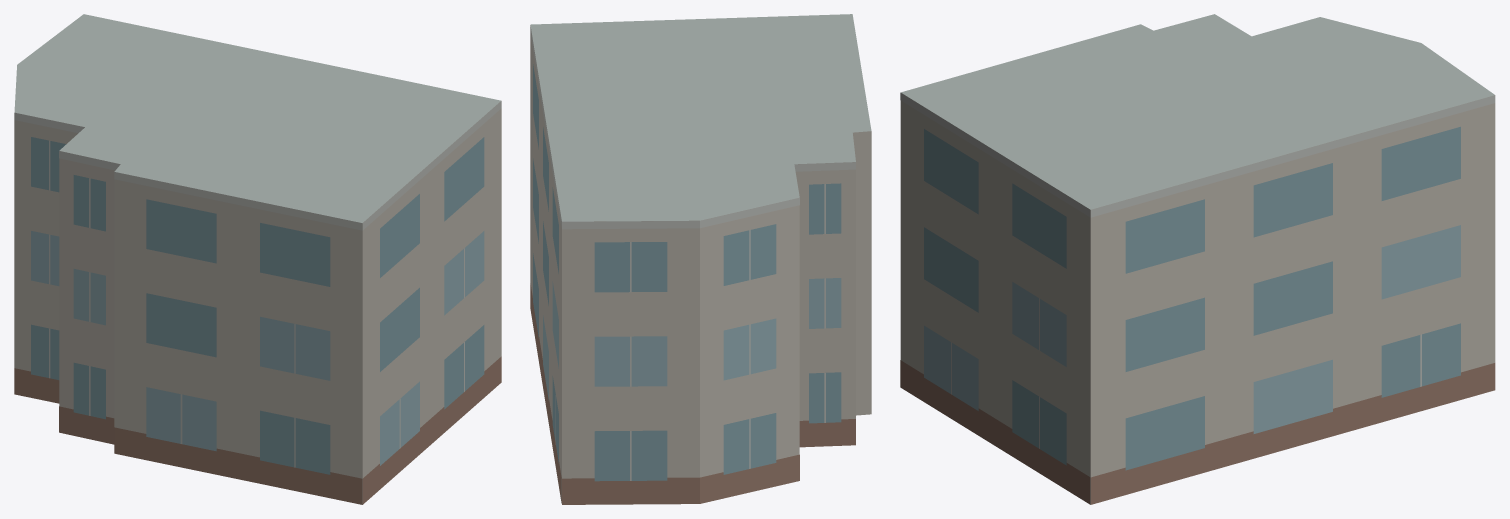
File: survey-upis-32634230.glb
3 views of the same model, side by side, from view 1: azimuth 30°, elevation 25°; view 2: azimuth 150°, elevation 25°; view 3: azimuth 270°, elevation 25° (orthographic). The views are drawn at different scales.
Parts seen in each view (by area): view 1: survey-upis-32634230.tmp; view 2: survey-upis-32634230.tmp; view 3: survey-upis-32634230.tmp.
Part boxes in pixels (left/top/right/bottom): survey-upis-32634230.tmp: left=14, top=14, right=501, bottom=504; survey-upis-32634230.tmp: left=530, top=14, right=871, bottom=504; survey-upis-32634230.tmp: left=900, top=14, right=1495, bottom=504.
Bounding box in the file's own units: 13.03 × 9.15 × 16.73.
